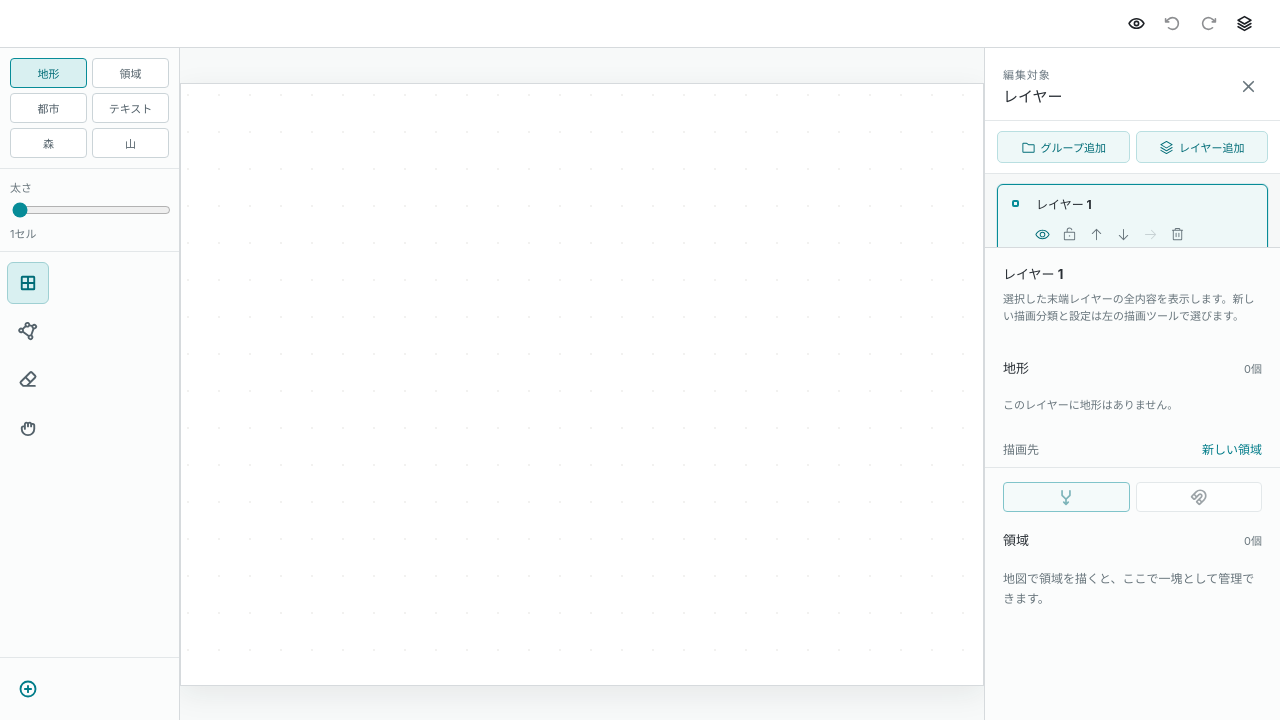
keeps one header thickness control shared by drawing and erasing
The width and height of the screenshot is (1280, 720).
Expected: the text "1セル" is shown, [10,227,36,241]
Set the slider named "描画と削除の太さ" to "4" at (127, 210), box [12,202,171,218]
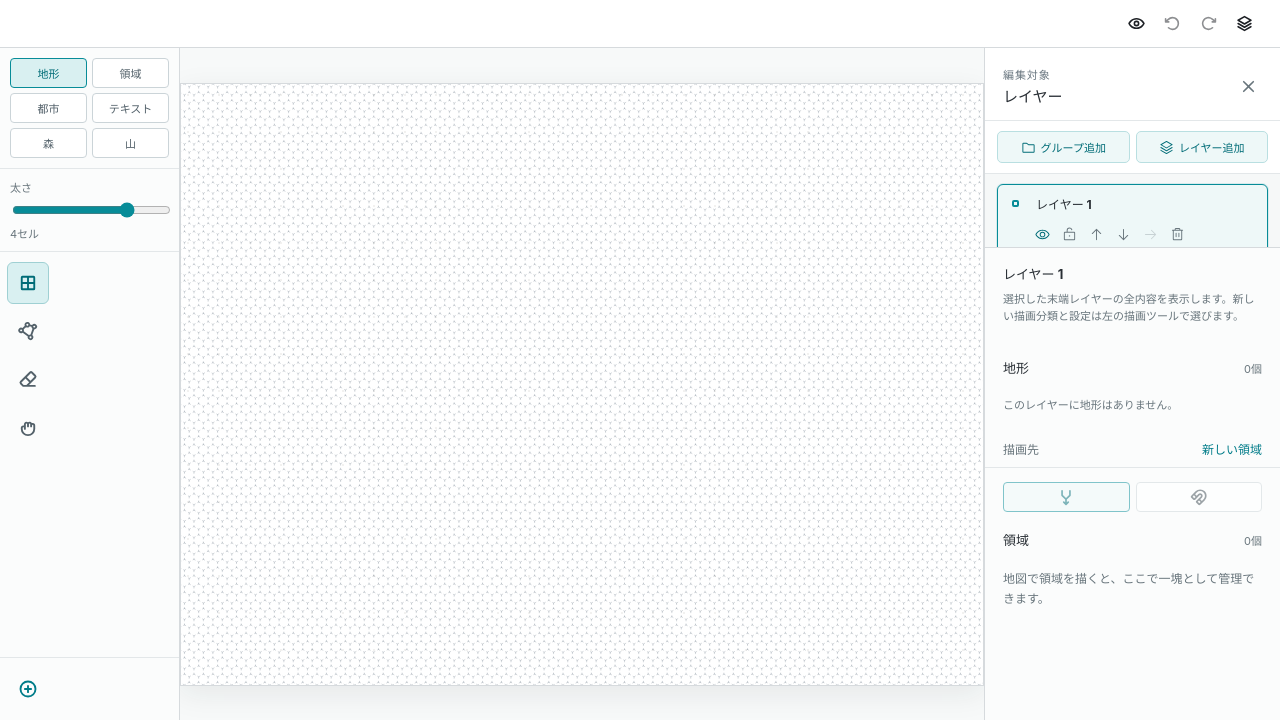
Now the text "4セル" is shown, box [10,227,39,241]
